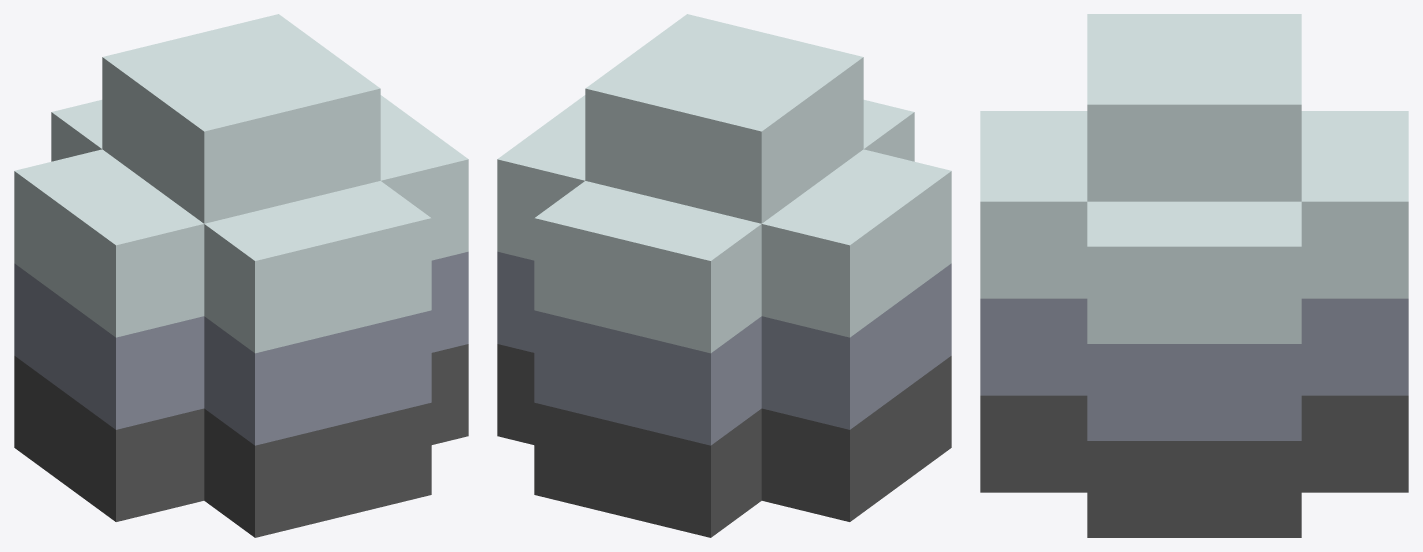
Rendered from Medieval Assets-200-Potion - Contents.obj.
3 views of the same model, side by side, from view 1: azimuth 30°, elevation 25°; view 2: azimuth 150°, elevation 25°; view 3: azimuth 270°, elevation 25° (orthographic). The views are drawn at different scales.
Visible parts, largest first — view 1: Potion - Contents; view 2: Potion - Contents; view 3: Potion - Contents.
Part boxes in pixels (x1=…): Potion - Contents: x1=14, y1=14, x2=468, y2=537; Potion - Contents: x1=497, y1=14, x2=951, y2=537; Potion - Contents: x1=980, y1=14, x2=1408, y2=537.
Bounding box in the file's own units: 0.4 × 0.4 × 0.4.
Materials: 1 (1 with a texture image).
